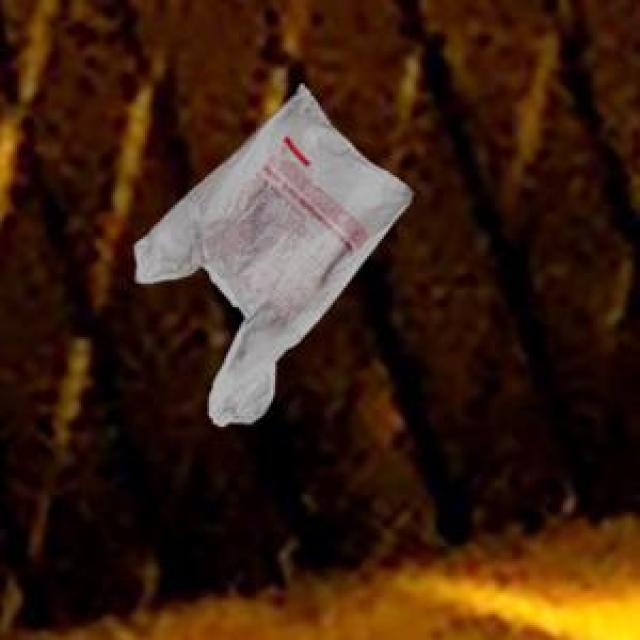plastic: (120, 57, 434, 463)
